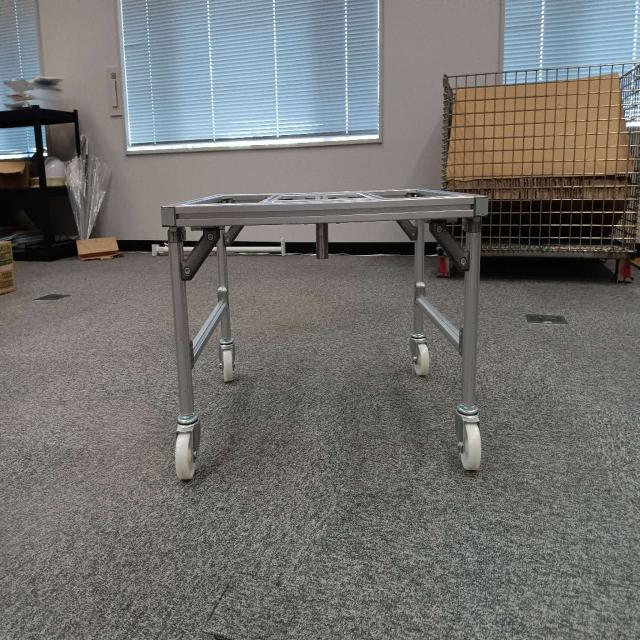door: (164, 194, 484, 279)
